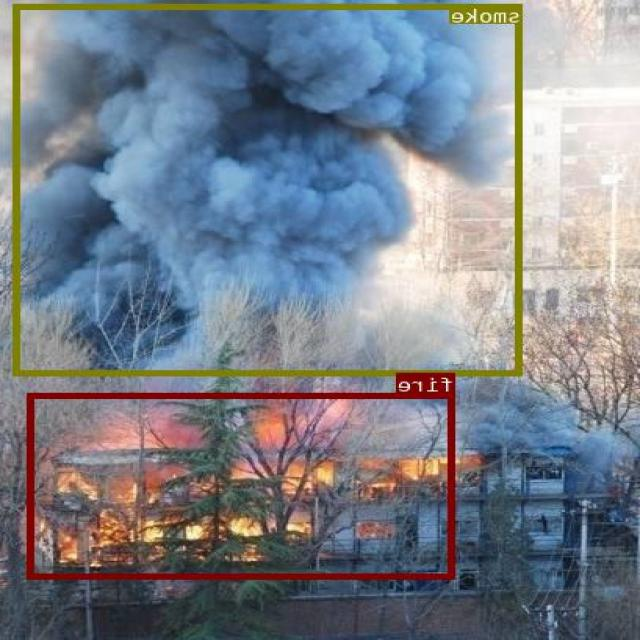fire: (29, 392, 457, 578)
smoke: (14, 3, 524, 374)
